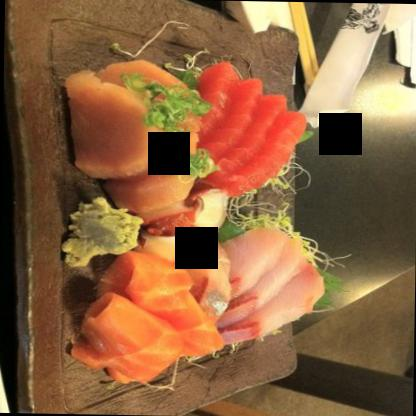salmon: (71, 250, 219, 376), (185, 67, 297, 189)
